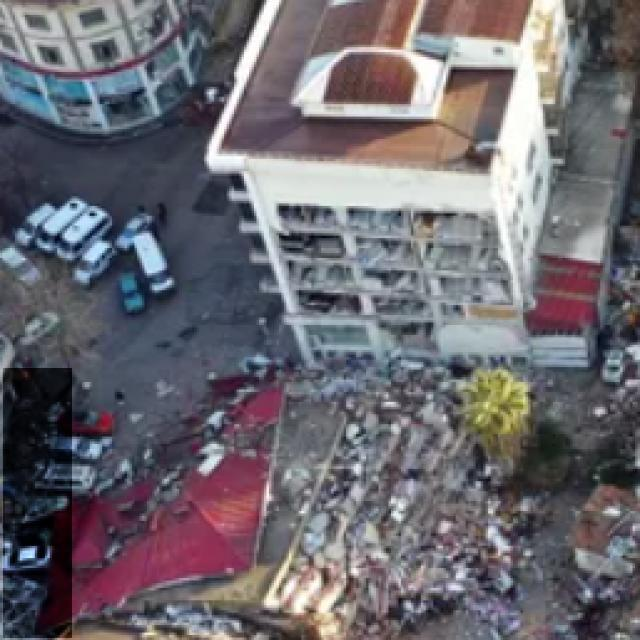Rubble: (274, 360, 545, 630), (3, 368, 72, 638)
